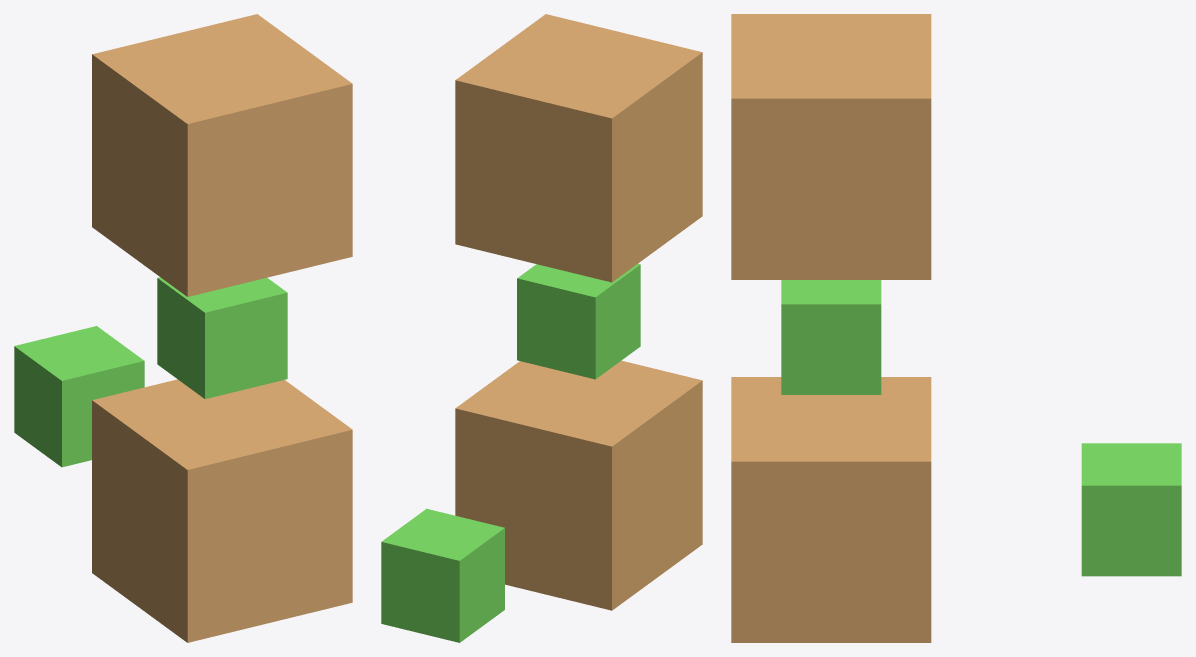
The picture shows the model from 3 angles, left to right: view 1: azimuth 30°, elevation 25°; view 2: azimuth 150°, elevation 25°; view 3: azimuth 270°, elevation 25°; orthographic projection. The views are drawn at different scales.
Visible parts, largest first — view 1: CubeUpper, cubeChild, Cube, cubeChild2; view 2: CubeUpper, cubeChild, cubeChild2, Cube; view 3: CubeUpper, cubeChild, cubeChild2, Cube.
Boxes of the visible parts, <box> form: CubeUpper: <box>92,14,352,296</box>; cubeChild: <box>92,379,352,642</box>; Cube: <box>157,277,287,398</box>; cubeChild2: <box>14,326,144,467</box>; CubeUpper: <box>455,14,702,282</box>; cubeChild: <box>455,360,702,610</box>; cubeChild2: <box>381,508,504,642</box>; Cube: <box>517,263,640,379</box>; CubeUpper: <box>731,14,931,279</box>; cubeChild: <box>731,377,931,642</box>; cubeChild2: <box>1081,443,1181,576</box>; Cube: <box>781,280,881,394</box>.
Bounding box in the file's own units: 4 × 12 × 9.
